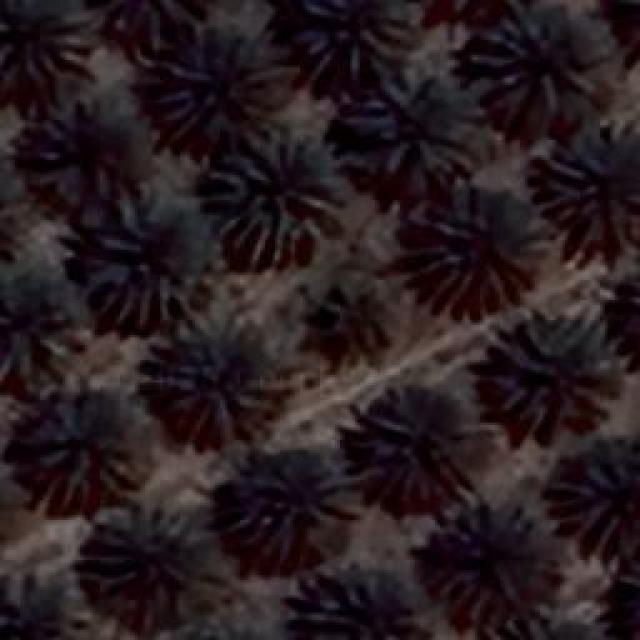PalmTree: (46, 47, 124, 595), (210, 125, 350, 265), (145, 310, 285, 448), (147, 18, 290, 140), (88, 190, 212, 330), (346, 381, 489, 501), (470, 2, 608, 116), (490, 310, 620, 430), (355, 65, 490, 180), (86, 520, 229, 625), (436, 508, 559, 628), (530, 120, 638, 255), (410, 191, 530, 309), (8, 402, 160, 492), (224, 454, 346, 556), (28, 80, 136, 195), (0, 245, 80, 380), (274, 568, 414, 638), (292, 0, 410, 80), (555, 450, 635, 555), (0, 0, 95, 80), (308, 281, 392, 371), (484, 617, 614, 640), (617, 254, 640, 367), (0, 452, 22, 560), (616, 542, 640, 640), (162, 622, 290, 640), (0, 154, 16, 274), (622, 537, 640, 640), (612, 1, 640, 64), (624, 253, 640, 363), (0, 453, 16, 558), (628, 255, 640, 362), (174, 629, 287, 640), (619, 0, 640, 59), (0, 455, 11, 558)
